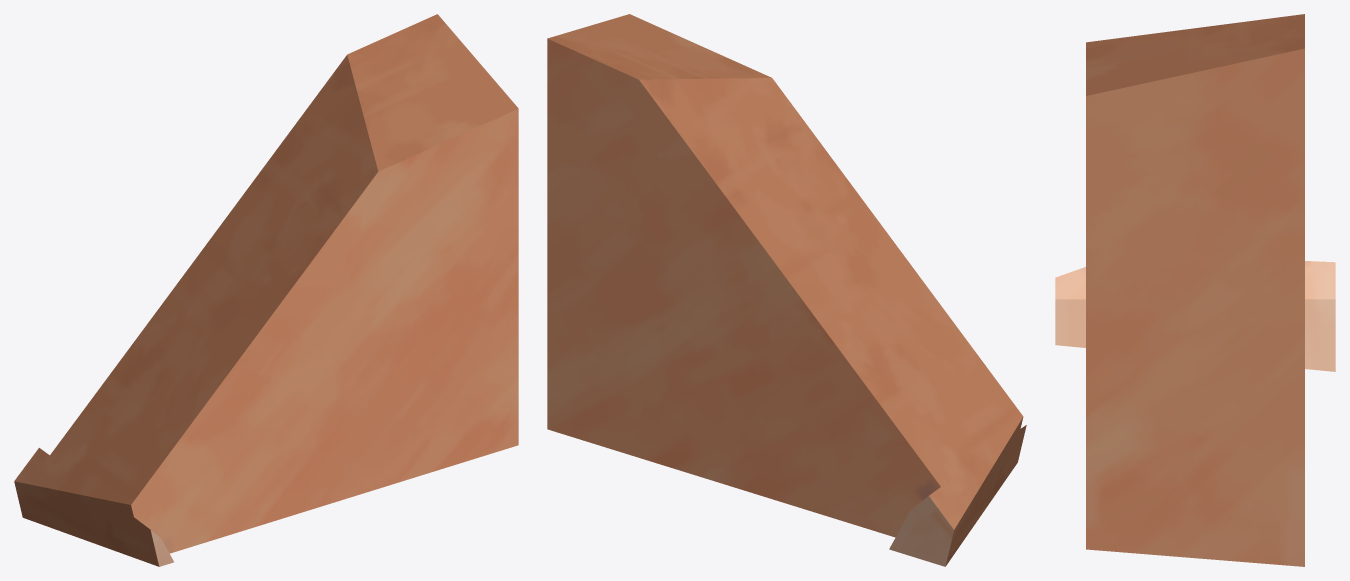
Rendered from wall2_window_s08.fbx.
3 renders of one model, left to right at view 1: azimuth 30°, elevation 25°; view 2: azimuth 150°, elevation 25°; view 3: azimuth 270°, elevation 25°, orthographic. The views are drawn at different scales.
Visible parts, largest first — view 1: wall2_window_s08; view 2: wall2_window_s08; view 3: wall2_window_s08.
Part boxes in pixels (x1,y1,x2,y2): wall2_window_s08: (14,14,518,566); wall2_window_s08: (547,14,1026,566); wall2_window_s08: (1055,14,1335,566).
Bounding box in the file's own units: 2.93 × 2.81 × 1.28.
